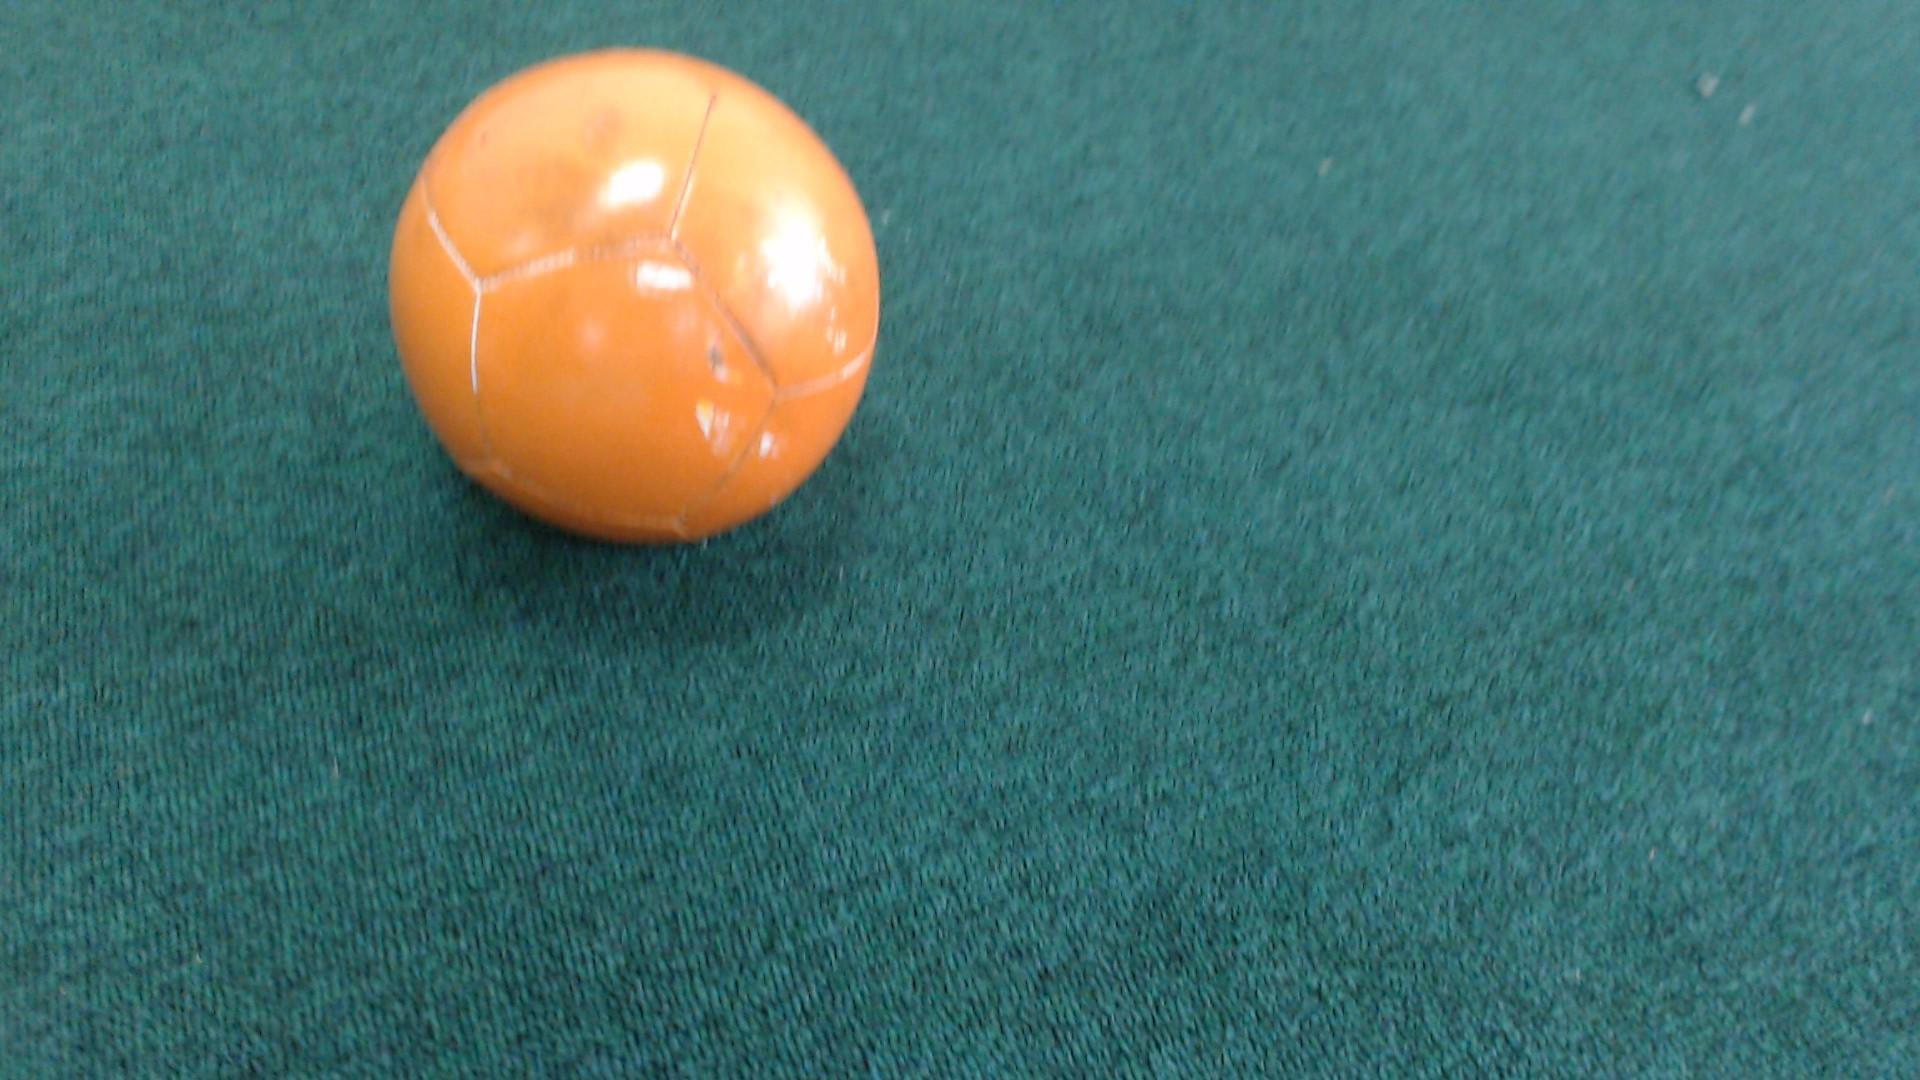bola: (355, 22, 931, 564)
